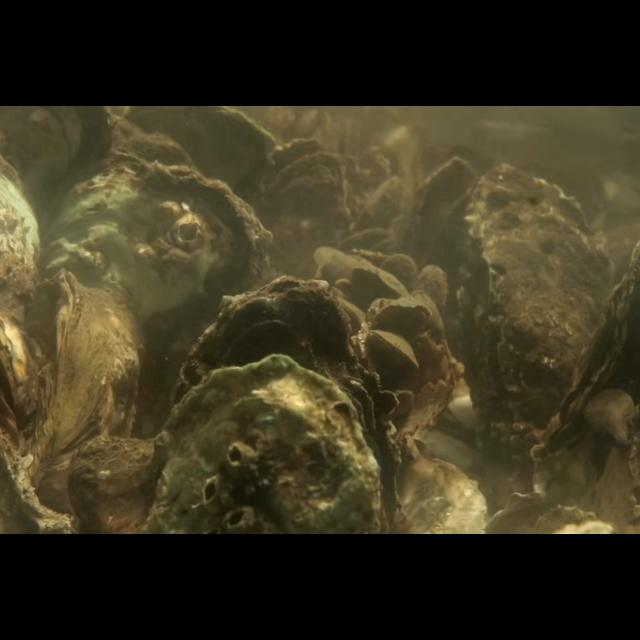Oyster-Closed: (42, 160, 270, 430), (166, 275, 398, 535), (144, 353, 382, 535), (29, 268, 141, 534), (120, 106, 278, 212), (0, 106, 116, 238), (66, 432, 158, 534), (391, 456, 489, 534), (1, 156, 44, 324), (349, 264, 409, 300), (313, 242, 363, 282), (379, 253, 419, 301), (374, 298, 432, 330), (416, 264, 448, 314)
Oyster-Open: (455, 162, 613, 456), (522, 236, 640, 502), (254, 138, 350, 272), (400, 156, 480, 310), (0, 312, 42, 450), (480, 492, 596, 534), (369, 329, 418, 371)
